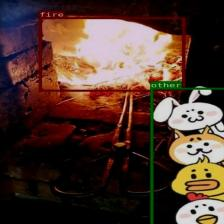fire: (38, 17, 185, 91)
